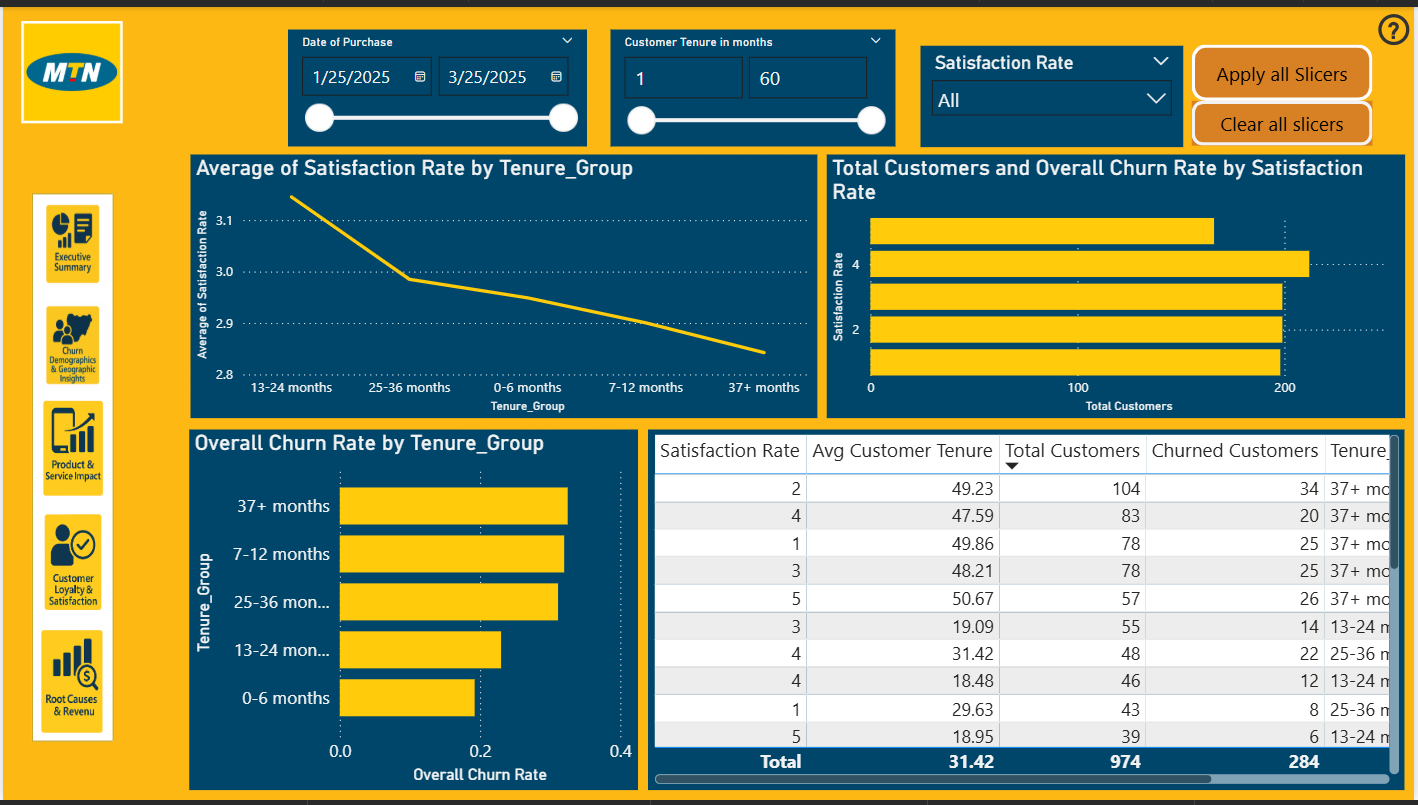

The page's visual inventory and layout, read from the dashboard file:
{"tool":"powerbi","page":{"name":"Customer Loyalty & Satisfaction","canvas":[1280,720],"ordinal":3},"visuals":[{"type":"barChart","fields":{"Category":["MTN Nigeria Customer Churn.Tenure_Group"],"Y":["MTN Nigeria Customer Churn.Overall Churn Rate"]},"box":[169.5,382.9,407.3,326.8],"z":0},{"type":"barChart","fields":{"Category":["MTN Nigeria Customer Churn.Satisfaction Rate"],"Y":["MTN Nigeria Customer Churn.Total Customers"]},"box":[747.7,133.7,524.4,239.5],"z":1000},{"type":"lineChart","fields":{"Y":["Avg(MTN Nigeria Customer Churn.Satisfaction Rate)"],"Category":["MTN Nigeria Customer Churn.Tenure_Group"]},"box":[169.8,133.7,568.6,239.5],"z":2000},{"type":"tableEx","fields":{"Values":["MTN Nigeria Customer Churn.Satisfaction Rate","MTN Nigeria Customer Churn.Average Customer Tenure (Overall)","MTN Nigeria Customer Churn.Total Customers","MTN Nigeria Customer Churn.Churned Customers","MTN Nigeria Customer Churn.Tenure_Group","MTN Nigeria Customer Churn.Overall Churn Rate"]},"box":[585.4,382.9,686.6,326.8],"z":3000},{"type":"slicer","fields":{"Values":["MTN Nigeria Customer Churn.Customer Tenure in months"]},"box":[551.2,20.9,258.1,105.8],"z":4000},{"type":"slicer","fields":{"Values":["MTN Nigeria Customer Churn.Date of Purchase"]},"box":[258.1,20.9,270.9,105.8],"z":5000},{"type":"slicer","fields":{"Values":["MTN Nigeria Customer Churn.Satisfaction Rate"]},"box":[832.6,34.9,238.4,91.9],"z":6000},{"type":"actionButton","box":[1242.7,0,37.8,41.5],"z":7000},{"type":"shape","box":[25.6,168.6,74.4,497.7],"z":8000},{"type":"image","box":[25.6,168.6,74.4,91.9],"z":9000},{"type":"image","box":[25.6,260.5,74.4,91.9],"z":10000},{"type":"image","box":[25.6,448.8,74.4,111.6],"z":11000},{"type":"image","box":[9.3,554.7,105.8,111.6],"z":12000},{"type":"image","box":[25.6,348.8,74.4,100],"z":13000},{"type":"image","box":[10.5,8.1,104.7,102.3],"z":14000},{"type":"actionButton","box":[1078.8,85.6,164,40.7],"z":15000},{"type":"shape","box":[1078.8,34.4,164,51.2],"z":16000}]}

Visuals, with their boxes in screenshot pixels (x1, y1, x2, y2), scaled from the page's 1280x720 canvas onto the 1418x805 screenshot:
barChart - MTN Nigeria Customer Churn.Tenure_Group x MTN Nigeria Customer Churn.Overall Churn Rate: <region>188, 428, 639, 793</region>
barChart - MTN Nigeria Customer Churn.Satisfaction Rate x MTN Nigeria Customer Churn.Total Customers: <region>828, 149, 1409, 417</region>
lineChart - Avg(MTN Nigeria Customer Churn.Satisfaction Rate) x MTN Nigeria Customer Churn.Tenure_Group: <region>188, 149, 818, 417</region>
tableEx - MTN Nigeria Customer Churn.Satisfaction Rate x MTN Nigeria Customer Churn.Average Customer Tenure (Overall): <region>649, 428, 1409, 793</region>
slicer - MTN Nigeria Customer Churn.Customer Tenure in months: <region>611, 23, 897, 142</region>
slicer - MTN Nigeria Customer Churn.Date of Purchase: <region>286, 23, 586, 142</region>
slicer - MTN Nigeria Customer Churn.Satisfaction Rate: <region>922, 39, 1186, 142</region>
actionButton: <region>1377, 0, 1417, 46</region>
shape: <region>28, 189, 111, 745</region>
image: <region>28, 189, 111, 291</region>
image: <region>28, 291, 111, 394</region>
image: <region>28, 502, 111, 627</region>
image: <region>10, 620, 128, 745</region>
image: <region>28, 390, 111, 502</region>
image: <region>12, 9, 128, 123</region>
actionButton: <region>1195, 96, 1377, 141</region>
shape: <region>1195, 38, 1377, 96</region>
